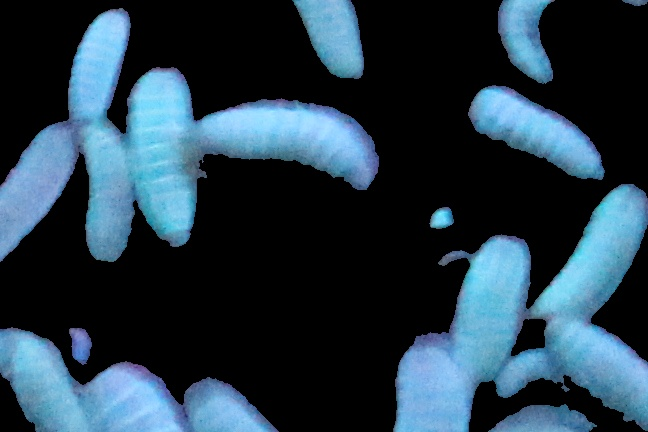larvae: (193, 97, 378, 194), (531, 166, 645, 320), (466, 87, 603, 183), (128, 67, 197, 248), (548, 321, 648, 431), (452, 235, 530, 375), (1, 119, 74, 265), (1, 322, 80, 432), (65, 9, 132, 129), (74, 360, 182, 432), (271, 1, 365, 83), (387, 340, 470, 432), (496, 1, 585, 83), (182, 370, 286, 432), (84, 125, 130, 259), (495, 347, 563, 398), (486, 406, 613, 432)
